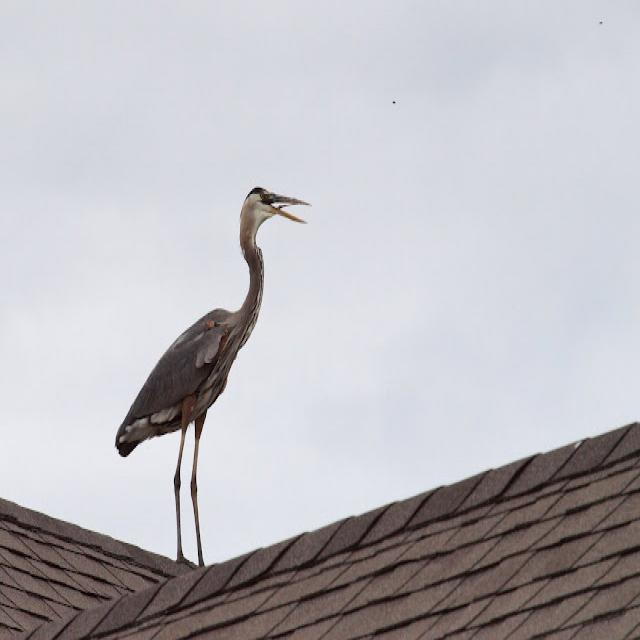bird: (114, 186, 312, 570)
